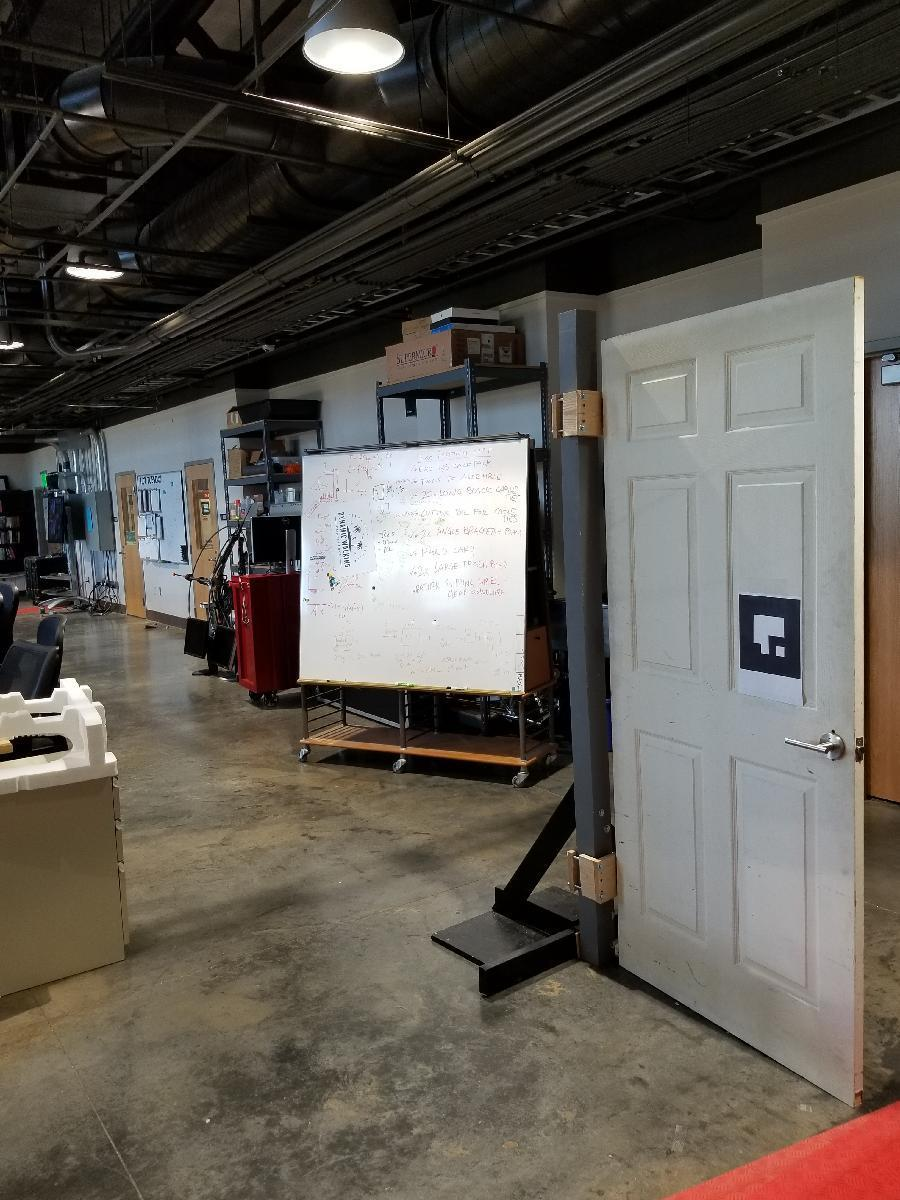door: (594, 262, 870, 1099), (184, 456, 226, 622), (112, 471, 147, 619)
handle: (783, 728, 846, 761)
